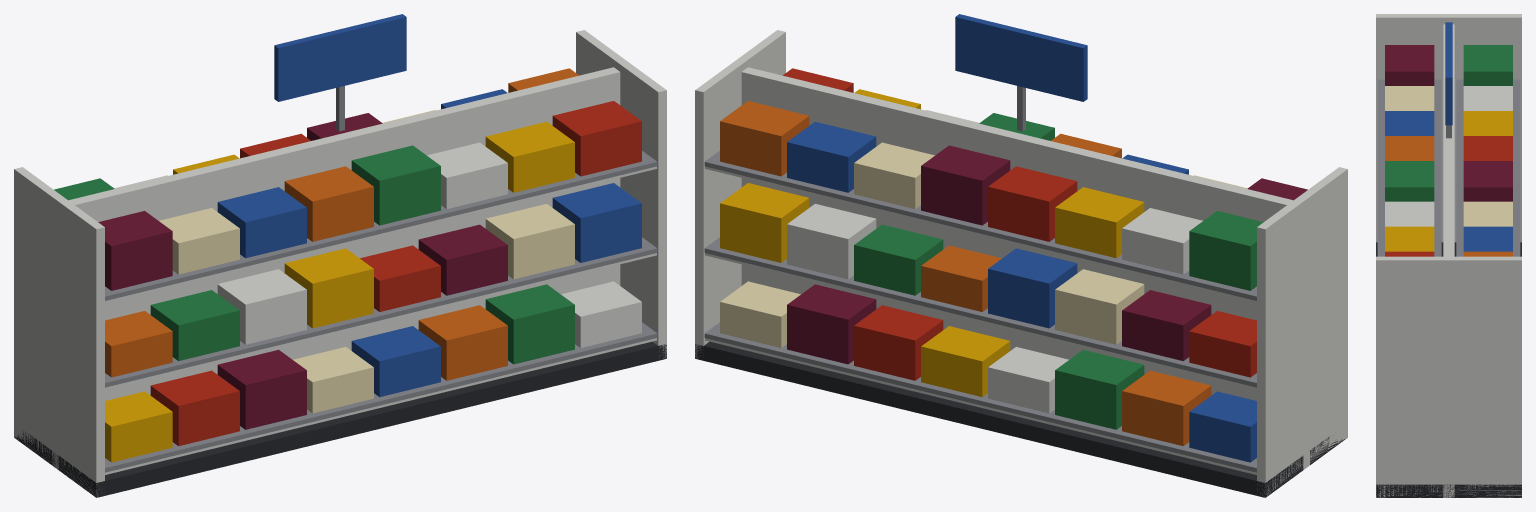
Rendered from prop_shop-aisle.cb755ac38224.glb.
3 renders of one model, left to right at view 1: azimuth 30°, elevation 25°; view 2: azimuth 150°, elevation 25°; view 3: azimuth 270°, elevation 25°, orthographic. The views are drawn at different scales.
Visible parts, largest first — view 1: body; view 2: body; view 3: body.
Part boxes in pixels (x1,y1,x2,y2): body: (14,14,666,497); body: (695,14,1347,497); body: (1376,14,1521,497).
Size of the model in its own units: 4 by 2.46 by 1.
